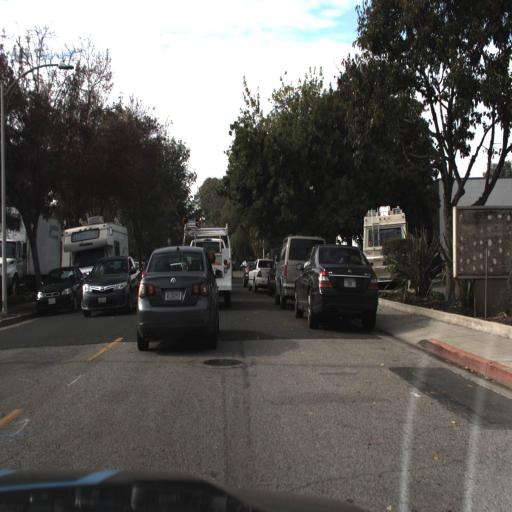car: (136, 243, 221, 348), (296, 250, 382, 330), (362, 201, 410, 295), (182, 215, 232, 297), (76, 254, 138, 319), (274, 237, 325, 310), (61, 222, 129, 271), (246, 254, 276, 296)
truck: (56, 216, 127, 304), (0, 196, 59, 290), (364, 211, 416, 303), (186, 231, 237, 311)
